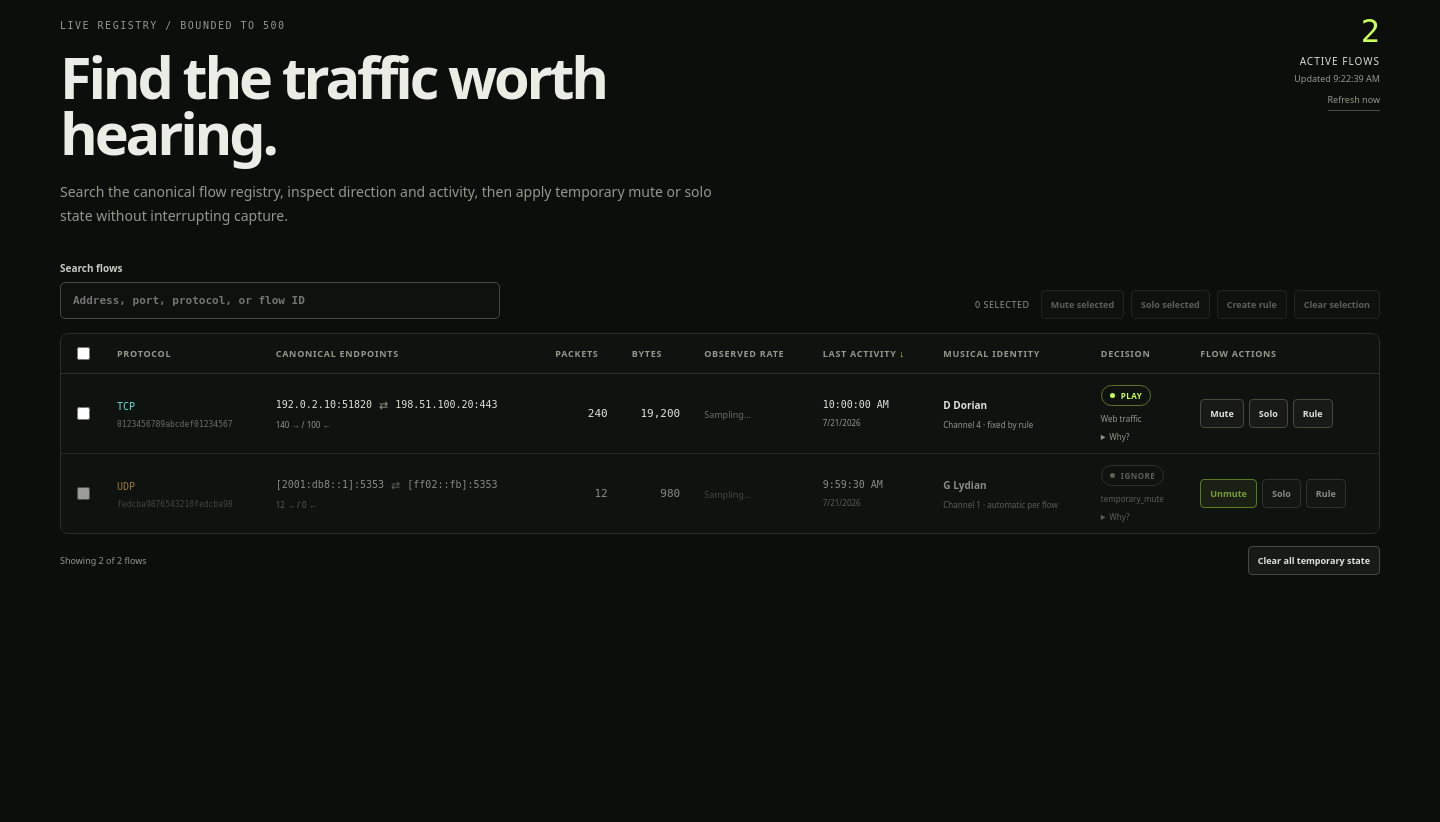
Test: flow explorer › loads a bounded flow page and filters canonical endpoints
The image size is (1440, 822).
Check: the text "0123456789abcdef01234567" is shown, box [117,420,252,430]
Check: the text "D dorian" is shown, box [943,398,987,412]
Step 1. Click the heading "Why?" below "Web traffic" → (1119, 437), box [1109,432,1129,442]
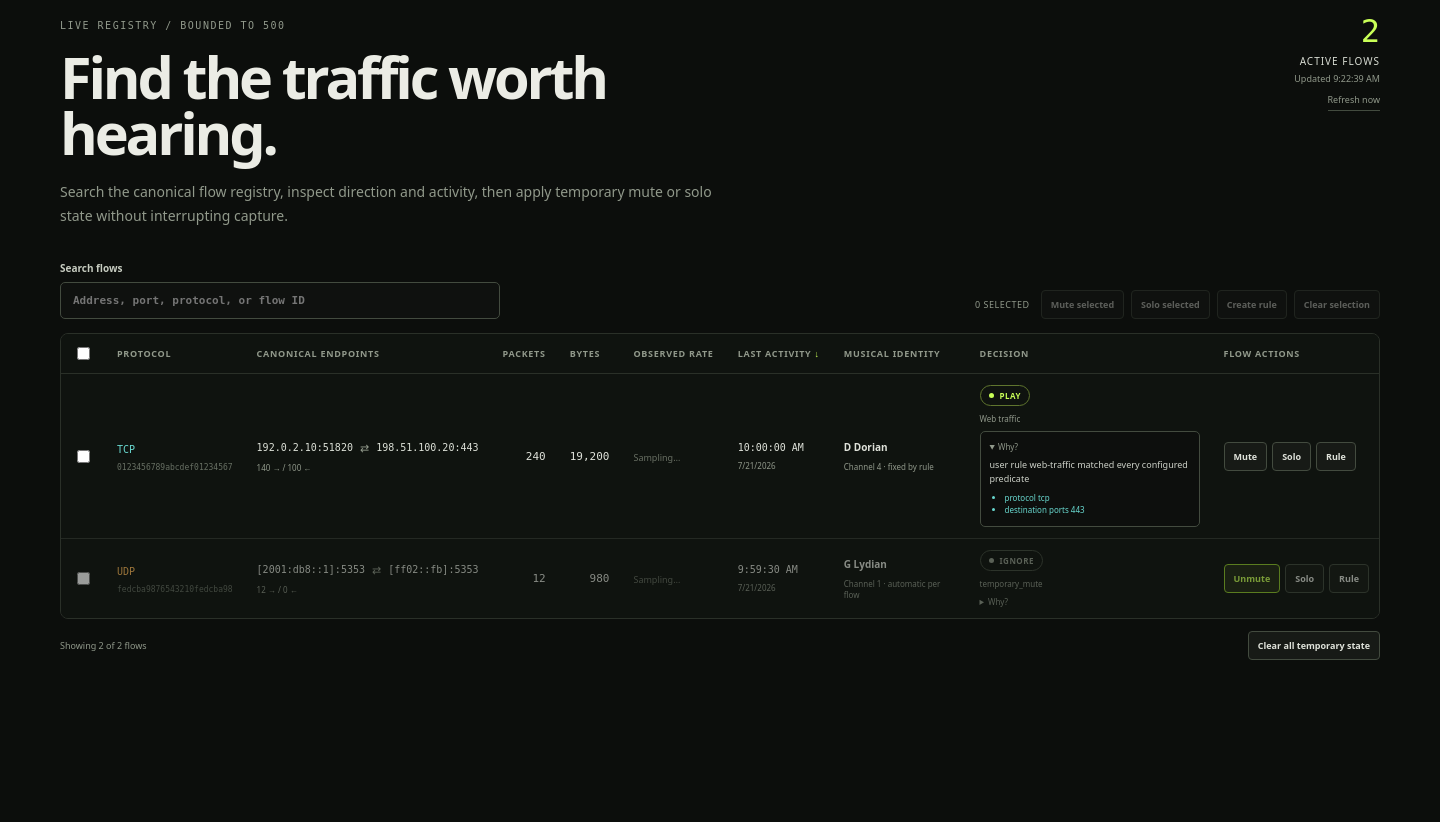
Check: the text "user rule web-traffic matched every configured predicate" is shown, box [990,458,1190,485]
Check: the list item "protocol tcp" is shown, box [1004,492,1050,503]
Check: the list item "destination ports 443" is shown, box [1004,504,1085,515]
Step 2. Type "5353" into the search field labelled "Search flows" → (280, 301), box [60,282,500,320]
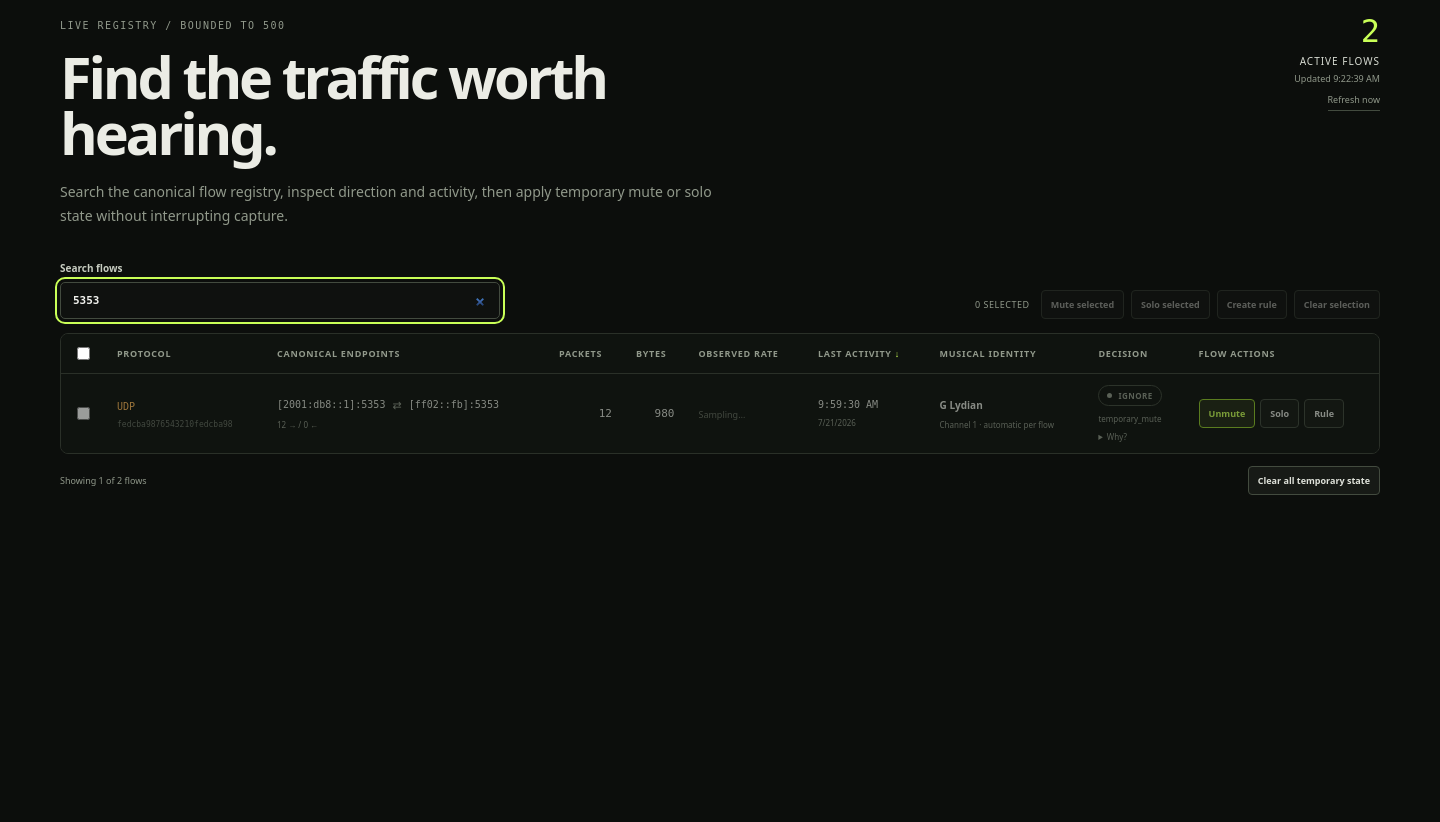
Check: the text "fedcba9876543210fedcba98" is shown, box [117,420,233,430]
Check: the text "0123456789abcdef01234567" is gone
